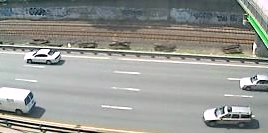car: (201, 103, 256, 129), (1, 85, 37, 117), (21, 47, 65, 66), (238, 72, 268, 91)
